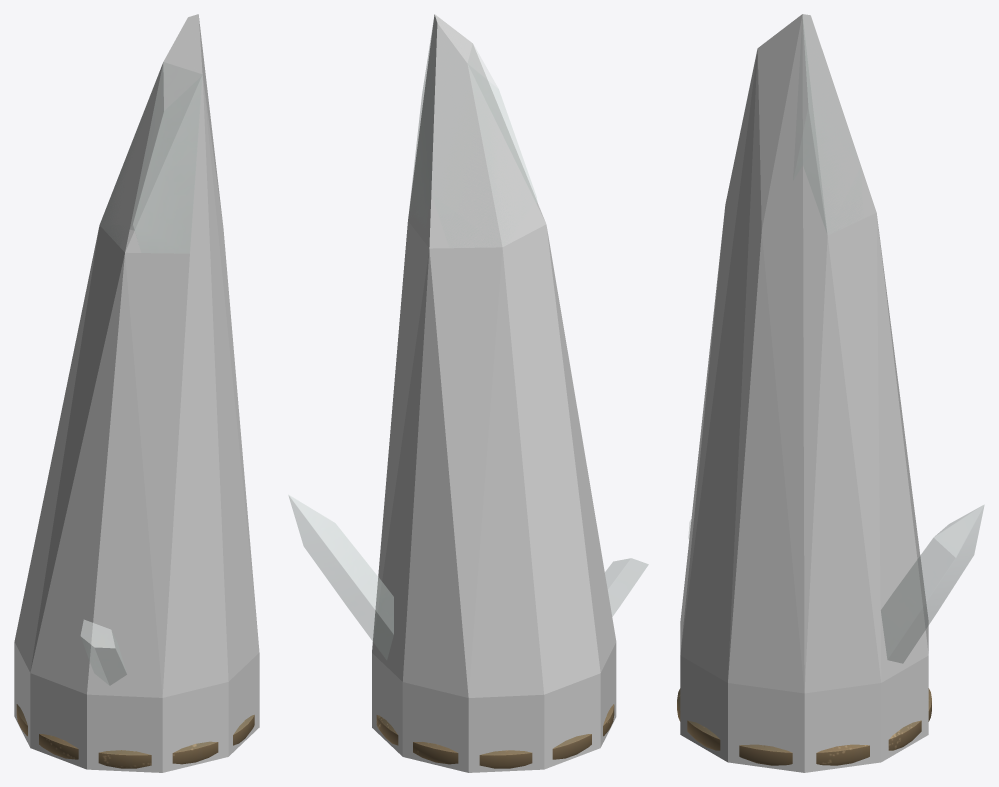
File: shard.glb
3 renders of one model, left to right at view 1: azimuth 30°, elevation 25°; view 2: azimuth 150°, elevation 25°; view 3: azimuth 270°, elevation 25°, orthographic. The views are drawn at different scales.
Visible parts, largest first — view 1: shard_hull_col, shard, shard_inspect; view 2: shard_hull_col, shard, shard_inspect; view 3: shard_hull_col, shard, shard_inspect.
Part boxes in pixels (box(x1,y1,x2,y2)): shard_hull_col: box(14, 14, 259, 772); shard: box(16, 62, 254, 768); shard_inspect: box(81, 62, 248, 746); shard_hull_col: box(372, 14, 616, 772); shard: box(289, 23, 648, 768); shard_inspect: box(289, 29, 647, 738); shard_hull_col: box(680, 14, 928, 772); shard: box(677, 17, 984, 765); shard_inspect: box(689, 20, 983, 747).
Size of the model in its own units: 0.1373 by 0.3979 by 0.1509.
5 materials, 4 textured.
